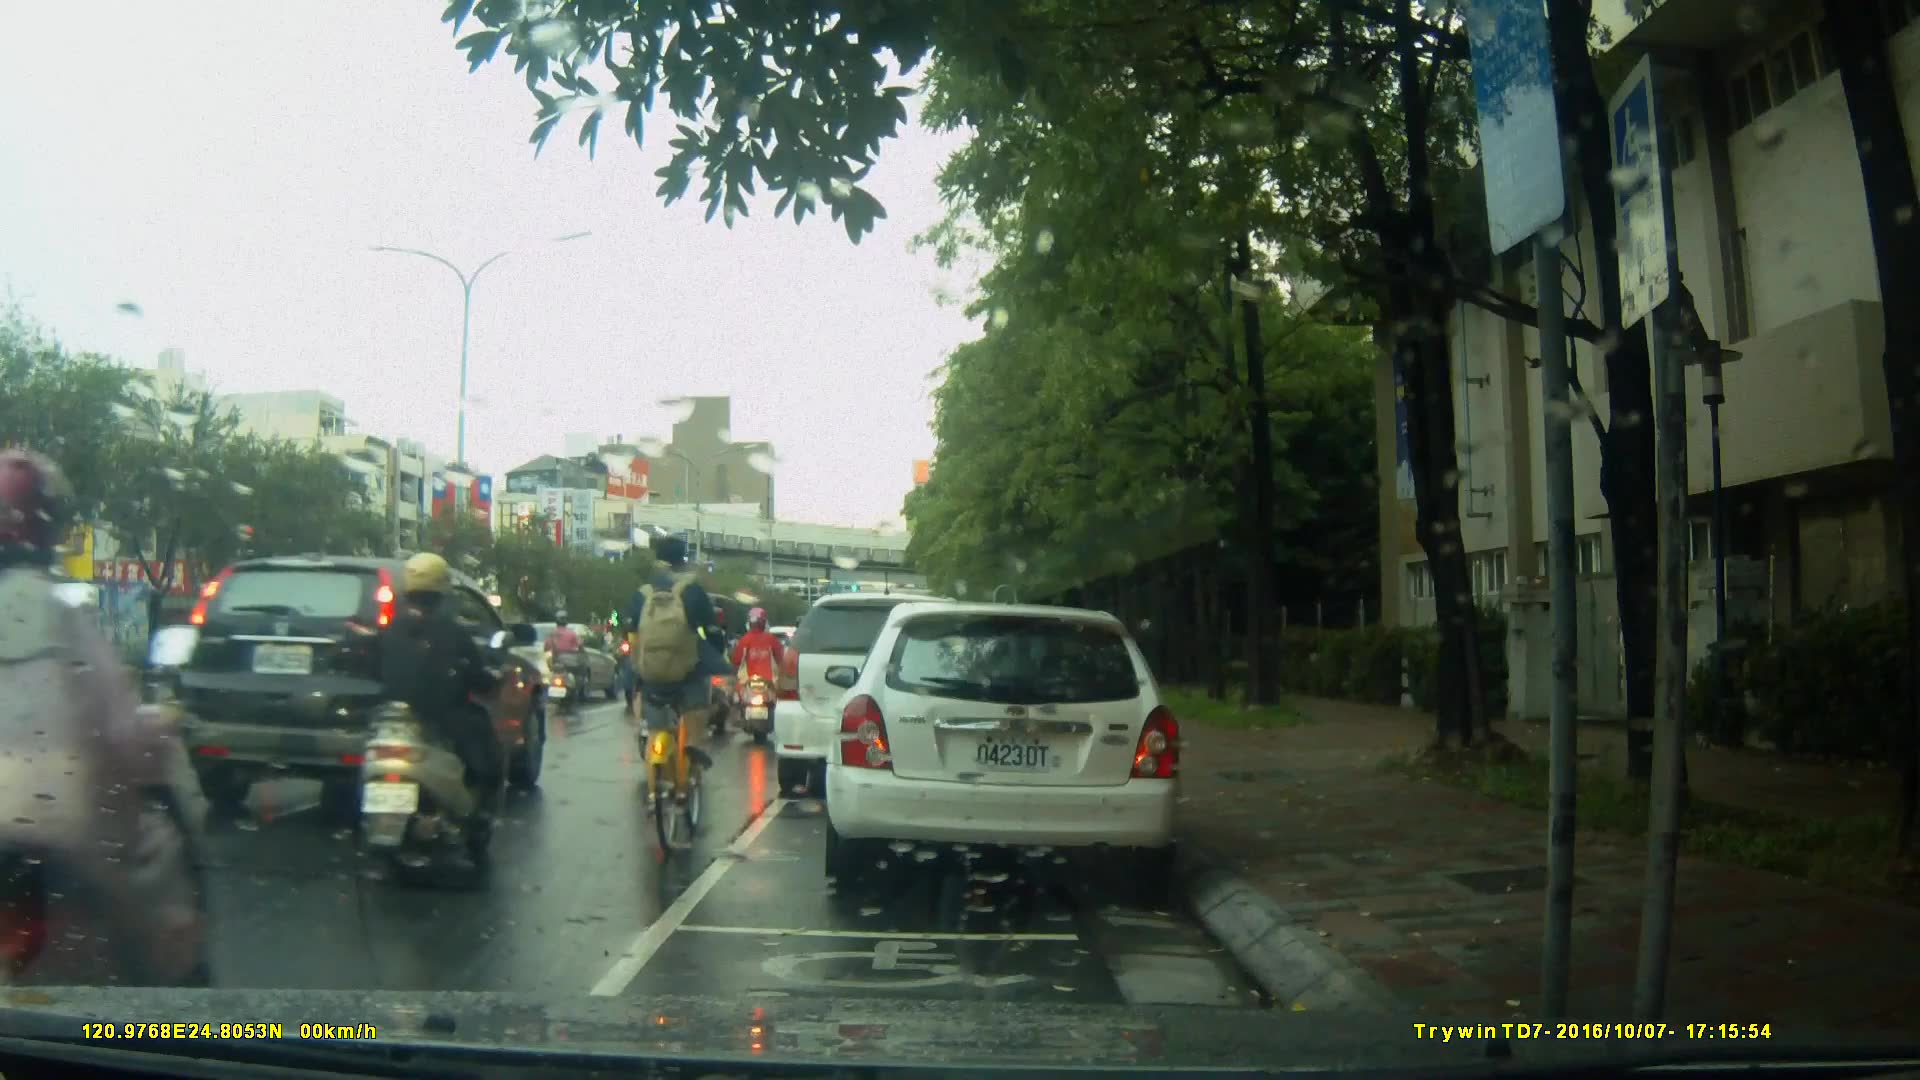rider: (1, 441, 233, 1080), (359, 554, 510, 877), (632, 531, 716, 859), (727, 604, 792, 744), (545, 613, 590, 716)
vehicle: (822, 604, 1188, 883), (177, 551, 552, 823), (774, 595, 995, 802)
